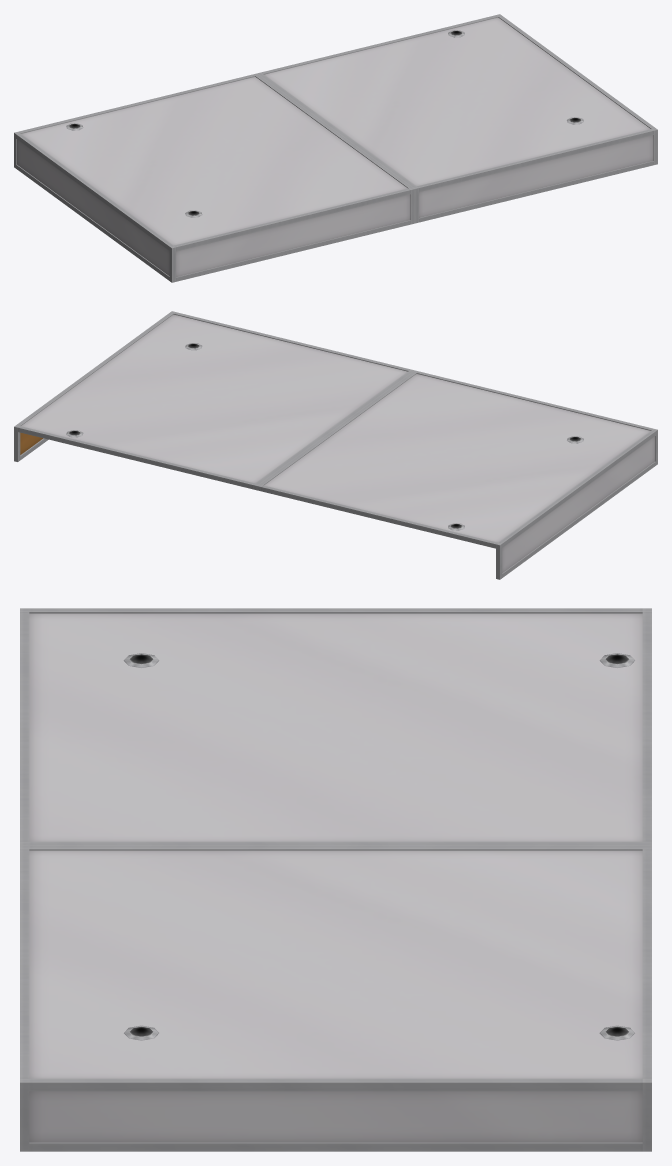
The model's file is jsf_4P_s01_c04_t01_DX.fbx.
3 renders of one model, top to bottom at view 1: azimuth 30°, elevation 25°; view 2: azimuth 150°, elevation 25°; view 3: azimuth 270°, elevation 25°, orthographic. The views are drawn at different scales.
Parts seen in each view (by area): view 1: jsf_4P_s01_c04_t01_DX; view 2: jsf_4P_s01_c04_t01_DX; view 3: jsf_4P_s01_c04_t01_DX.
Boxes of the visible parts, x1,y1,x2,y2 form: jsf_4P_s01_c04_t01_DX: [14, 14, 657, 282]; jsf_4P_s01_c04_t01_DX: [14, 311, 657, 579]; jsf_4P_s01_c04_t01_DX: [20, 608, 651, 1151].
Size of the model in its own units: 184 by 12.99 by 104.
